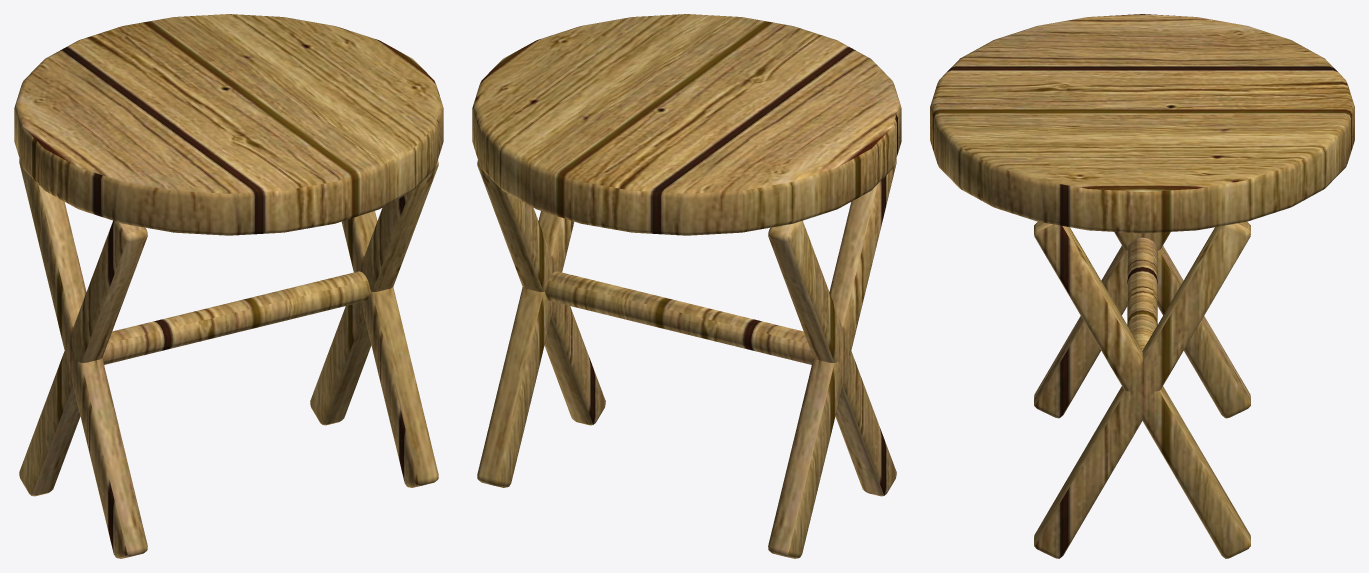
The model's file is Antique_Chair_14.fbx.
3 renders of one model, left to right at view 1: azimuth 30°, elevation 25°; view 2: azimuth 150°, elevation 25°; view 3: azimuth 270°, elevation 25°, orthographic.
Parts seen in each view (by area): view 1: Antique_Chair; view 2: Antique_Chair; view 3: Antique_Chair.
Boxes of the visible parts, x1,y1,x2,y2 form: Antique_Chair: (14,14,443,558); Antique_Chair: (472,14,901,558); Antique_Chair: (930,14,1354,558).
Size of the model in its own units: 0.5152 by 0.5134 by 0.5152.
1 material, 1 textured.
